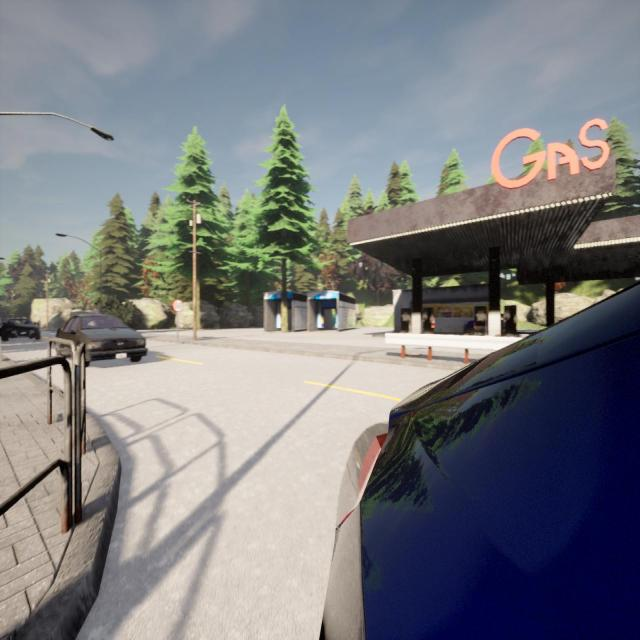Traffic_Signs: (172, 299, 183, 312)
Vehicle: (319, 281, 640, 640), (53, 313, 148, 365), (0, 317, 40, 341)
